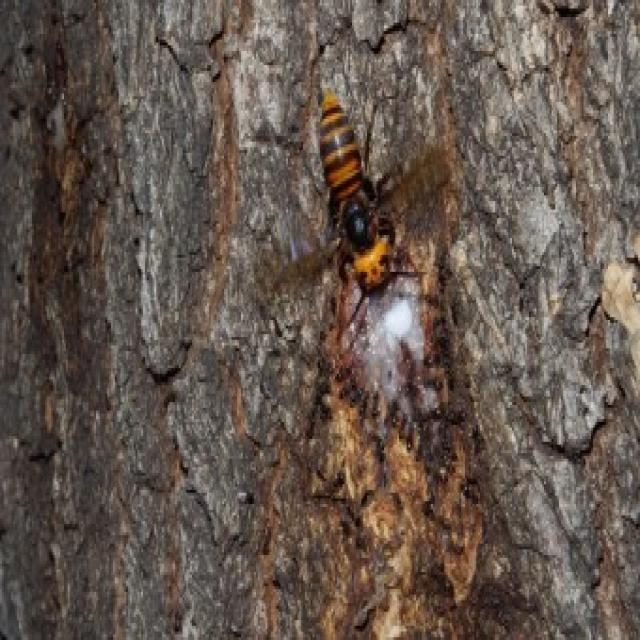Wasp: (289, 93, 422, 332)
